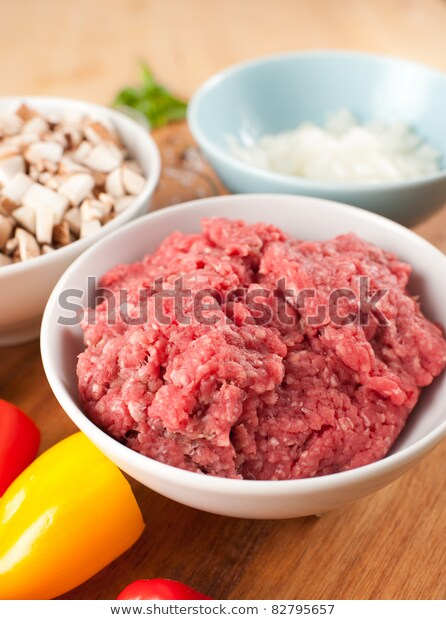ground_beef: (104, 236, 416, 473)
